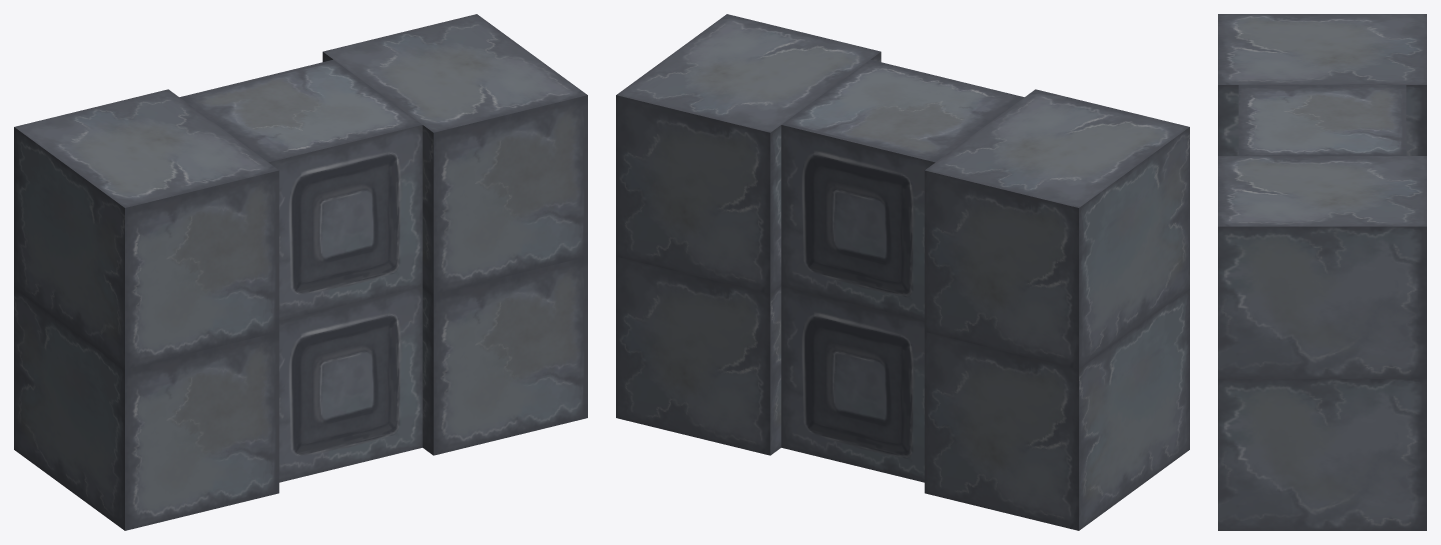
File: Castle Deco Pilar Wide 2.fbx
3 views of the same model, side by side, from view 1: azimuth 30°, elevation 25°; view 2: azimuth 150°, elevation 25°; view 3: azimuth 270°, elevation 25° (orthographic). The views are drawn at different scales.
Visible parts, largest first — view 1: Castle Deco Pilar Wide 2; view 2: Castle Deco Pilar Wide 2; view 3: Castle Deco Pilar Wide 2.
Boxes of the visible parts, <box> form: Castle Deco Pilar Wide 2: <box>14,14,587,530</box>; Castle Deco Pilar Wide 2: <box>616,14,1189,530</box>; Castle Deco Pilar Wide 2: <box>1218,14,1426,530</box>.
Bounding box in the file's own units: 2.25 × 1.5 × 0.9335.
